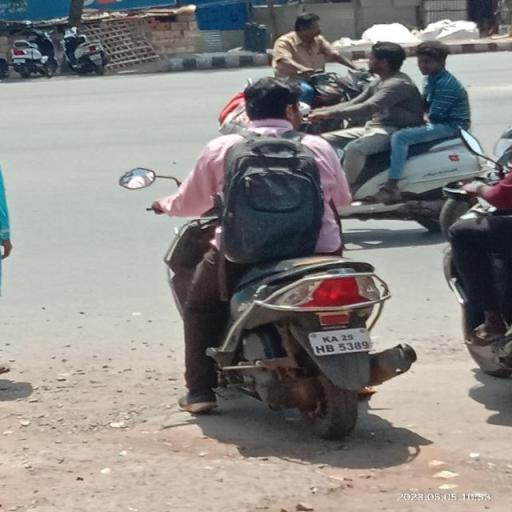bike: (112, 74, 416, 433)
numberplate: (306, 324, 380, 361)
withouthelmet: (243, 78, 293, 124)
